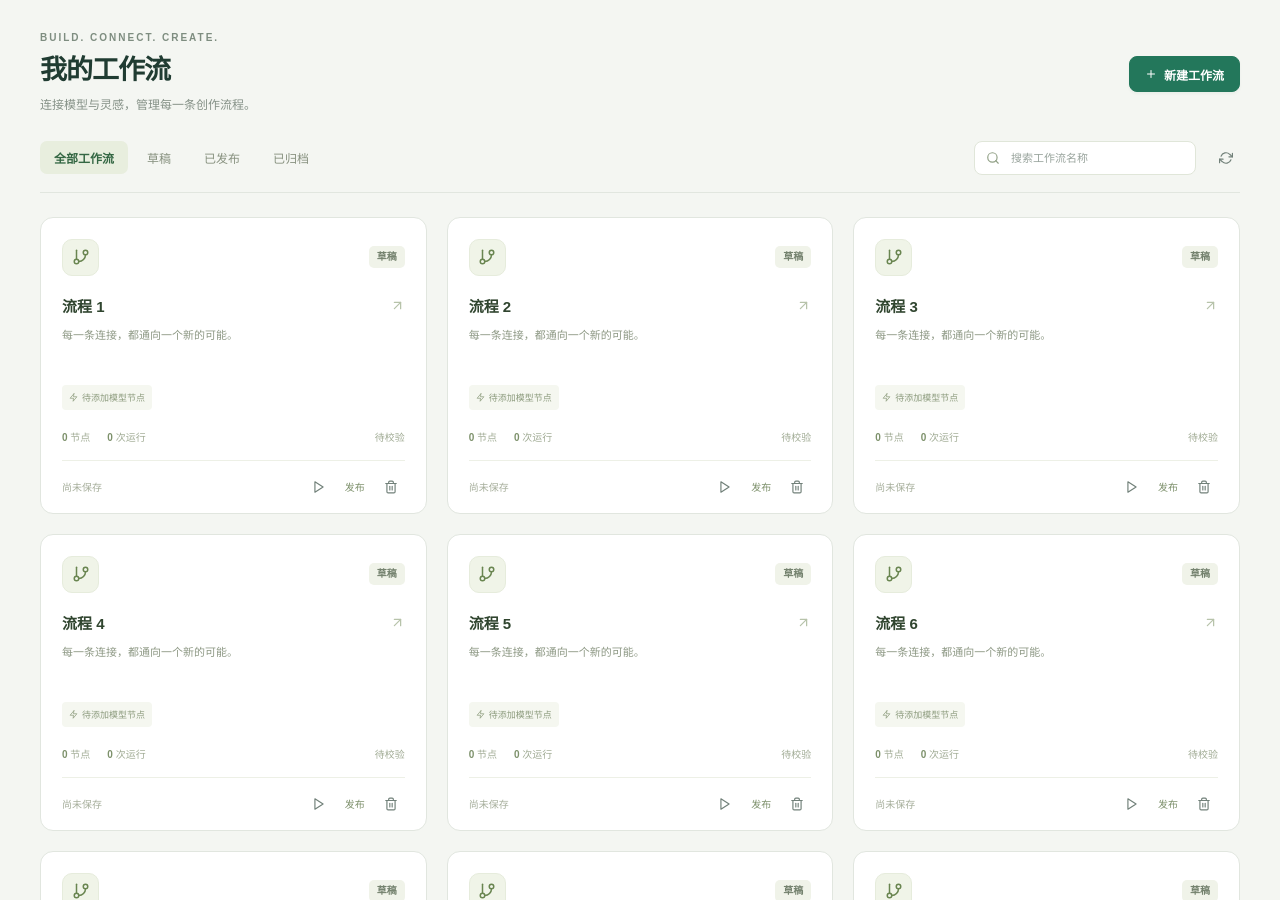
删除服务端记录后刷新补齐当前页，删除失败保留记录并显示原因
The width and height of the screenshot is (1280, 900).
Click the button named "删除 流程 1".
click(391, 487)  # box [377,473,405,501]
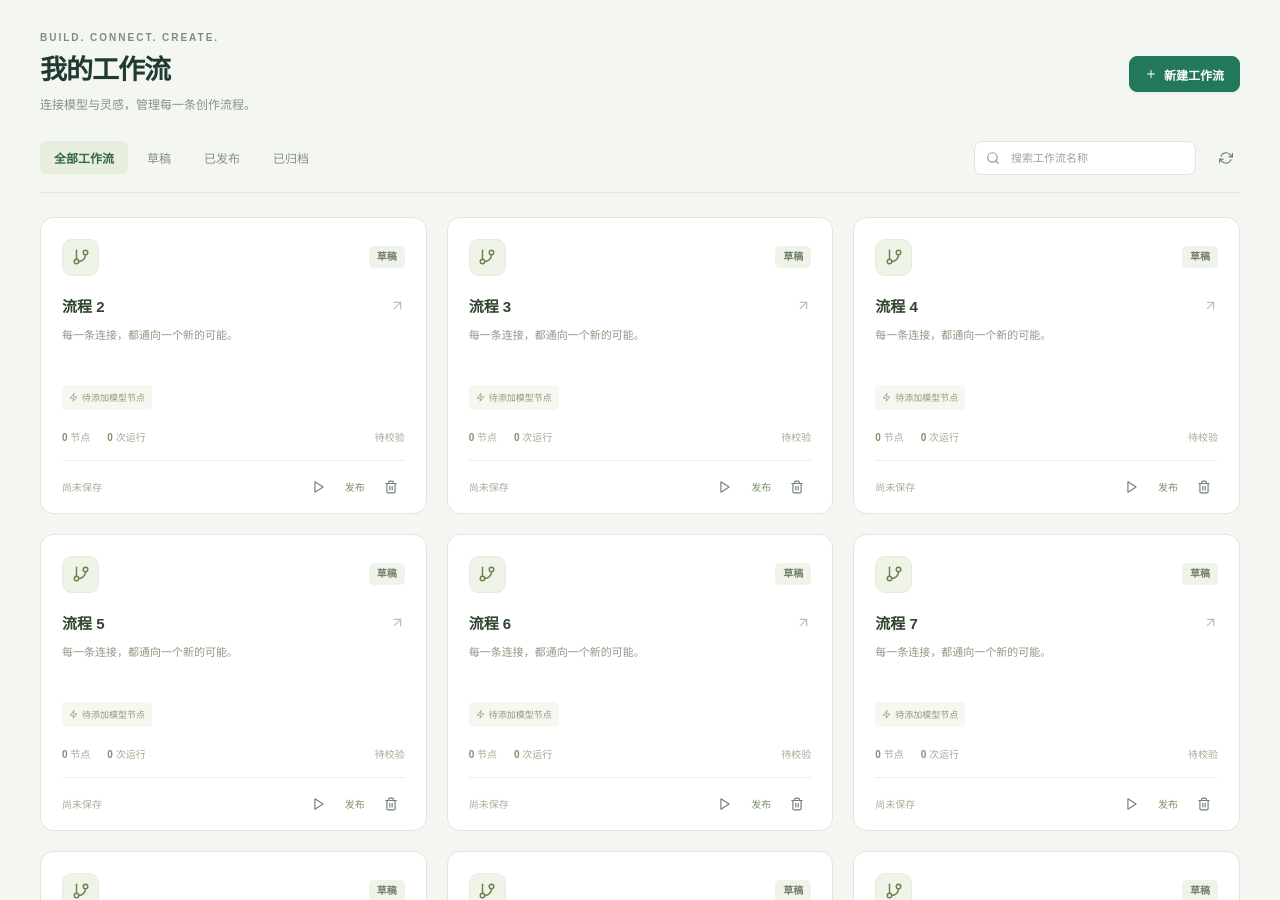
Click the button named "删除 流程 2".
click(391, 487)  # box [377,473,405,501]
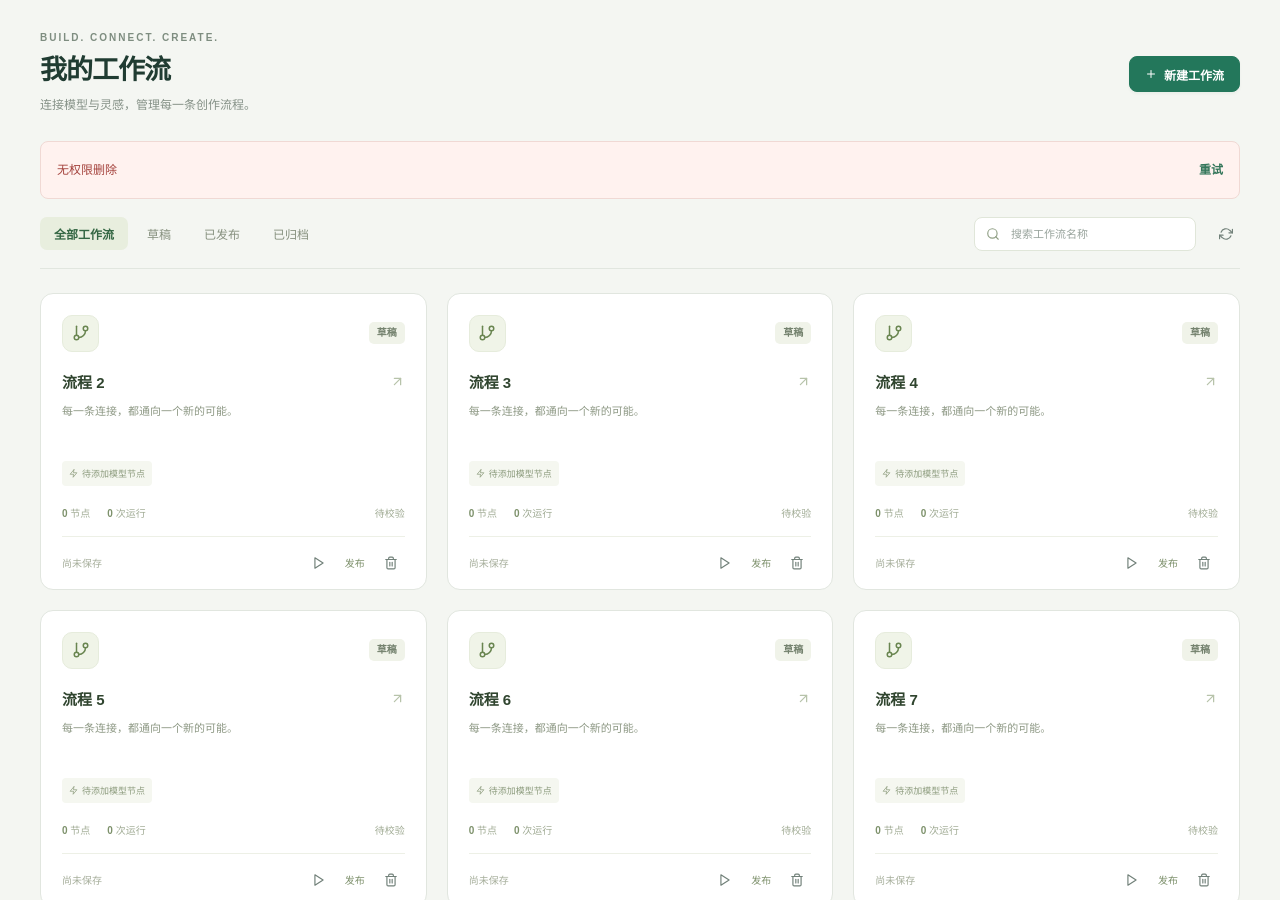
Expected: the button named "删除 流程 2" is shown, [377,549,405,577]
Expected: the message shows "无权限删除", [57,163,117,177]
